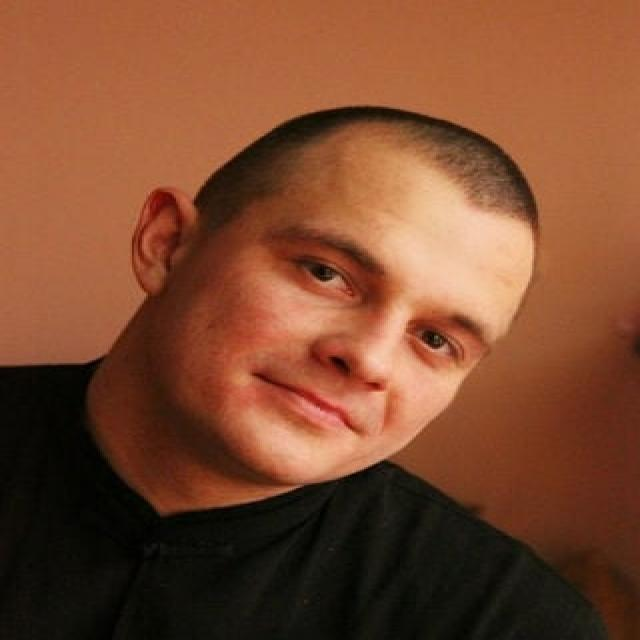earlobe: (131, 185, 190, 298)
